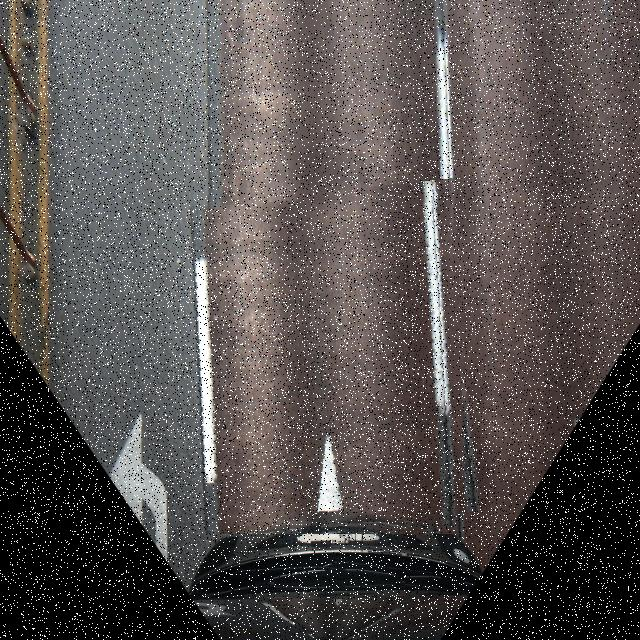forward: (168, 186, 482, 534)
